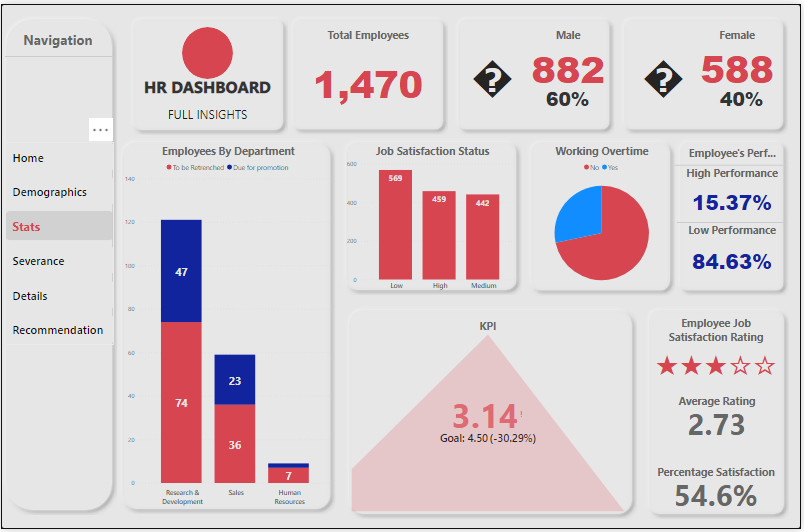

What the dashboard file says about the page in this screenshot:
{"tool":"powerbi","page":{"name":"Stats","canvas":[1600,1050],"ordinal":2},"visuals":[{"type":"shape","box":[253.3,20,320,241.7],"z":0},{"type":"shape","box":[573.9,20,320,241.1],"z":1000},{"type":"shape","box":[903.7,20,323.2,241.1],"z":2000},{"type":"shape","box":[1236.1,20,337.8,241.1],"z":3000},{"type":"textbox","box":[260,138,306,78],"z":4000},{"type":"textbox","box":[260,198,306,78],"z":5000},{"type":"shape","box":[362,46,102,104],"z":6000},{"type":"card","title":"Total Employees","fields":{"Values":["All Measures.Total Emp"]},"box":[584,46,300,192],"z":7000},{"type":"card","title":"Male","fields":{"Values":["All Measures.Males"]},"box":[1054.3,45.7,160,131.4],"z":8000},{"type":"card","title":"Male","fields":{"Values":["All Measures.% Males"]},"box":[1064,146,138,86],"z":9000},{"type":"card","title":"Female","fields":{"Values":["All Measures.Females"]},"box":[1382,46,180,132],"z":10000},{"type":"card","title":"Male","fields":{"Values":["All Measures.% Females"]},"box":[1412,146,138,86],"z":11000},{"type":"shape","title":"🙎♀️","box":[1286,84,96,106],"z":12000},{"type":"shape","title":"🙎♂️","box":[944,84,96,106],"z":13000},{"type":"shape","box":[679.4,265.7,360.6,316.5],"z":14000},{"type":"shape","box":[1050,265,298.3,316.7],"z":15000},{"type":"shape","box":[1348.3,265,226.7,316.7],"z":16000},{"type":"shape","box":[231.4,265.7,437.1,754.3],"z":17000},{"type":"columnChart","title":"Employees By Department","fields":{"Category":["HR Analytics Data.Department"],"Y":["All Measures.To be Retrenched","All Measures.Due for promotion"]},"box":[242.9,277.1,425.7,732.9],"z":18000},{"type":"columnChart","title":"Job Satisfaction Status","fields":{"Category":["HR Analytics Data.Job Satisfaction Status"],"Y":["All Measures.Total Emp"]},"box":[686,278,354,304],"z":19000},{"type":"pieChart","title":"Working Overtime","fields":{"Category":["HR Analytics Data.OverTime"],"Y":["All Measures.Total Emp"]},"box":[1023.3,278.3,355,303.3],"z":20000},{"type":"shape","box":[686,602,586,428],"z":21000},{"type":"kpi","title":"KPI ","fields":{"TrendLine":["HR Analytics Data.Department"],"Indicator":["Avg(HR Analytics Data.PerformanceRating)"],"Goal":["Sum(Performance Rating Goal.Performance Goal)"]},"box":[696,628,556,392],"z":22000},{"type":"shape","box":[1286,602,290,428],"z":23000},{"type":"textbox","box":[1355,278.3,213.3,41.7],"z":24000},{"type":"card","title":"Low Performance","fields":{"Values":["All Measures.% Low"]},"box":[1362.2,435.4,200,128.9],"z":25000},{"type":"card","title":"High Performance","fields":{"Values":["All Measures.% High"]},"box":[1362.2,322.2,200,120],"z":26000},{"type":"shape","box":[0,20,232,1002],"z":27000},{"type":"textbox","box":[22,48,184,50],"z":28000},{"type":"shape","box":[8,98,218,14],"z":29000},{"type":"pageNavigator","title":"Page navigator","box":[8,276,218,406],"z":30000},{"type":"shape","box":[1348.9,313.3,220,16.7],"z":31000},{"type":"shape","box":[1352.2,432.1,220,10],"z":32000},{"type":"card","title":"Employee Job Satisfaction Rating","fields":{"Values":["All Measures.Average of JobSatisfaction star rating"]},"box":[1298,622,264,132],"z":33000},{"type":"card","title":"Average Rating","fields":{"Values":["Avg(HR Analytics Data.JobSatisfaction)"]},"box":[1300,778,264,90],"z":34000},{"type":"card","title":"Percentage Satisfaction","fields":{"Values":["All Measures.% Average Sat. Rating"]},"box":[1298,920,264,90],"z":35000}]}

Visuals, with their boxes in screenshot pixels (x1, y1, x2, y2), scaled from the page's 1600x1050 canvas onto the 804x532 screenshot:
shape: locate(127, 10, 288, 133)
shape: locate(288, 10, 449, 132)
shape: locate(454, 10, 617, 132)
shape: locate(621, 10, 791, 132)
textbox: locate(131, 70, 284, 109)
textbox: locate(131, 100, 284, 140)
shape: locate(182, 23, 233, 76)
"Total Employees" card: locate(293, 23, 444, 121)
"Male" card: locate(530, 23, 610, 90)
"Male" card: locate(535, 74, 604, 118)
"Female" card: locate(694, 23, 785, 90)
"Male" card: locate(710, 74, 779, 118)
"🙎♀️" shape: locate(646, 43, 694, 96)
"🙎♂️" shape: locate(474, 43, 523, 96)
shape: locate(341, 135, 523, 295)
shape: locate(528, 134, 678, 295)
shape: locate(678, 134, 791, 295)
shape: locate(116, 135, 336, 517)
"Employees By Department" columnChart: locate(122, 140, 336, 512)
"Job Satisfaction Status" columnChart: locate(345, 141, 523, 295)
"Working Overtime" pieChart: locate(514, 141, 693, 295)
shape: locate(345, 305, 639, 522)
"KPI " kpi: locate(350, 318, 629, 517)
shape: locate(646, 305, 792, 522)
textbox: locate(681, 141, 788, 162)
"Low Performance" card: locate(685, 221, 785, 286)
"High Performance" card: locate(685, 163, 785, 224)
shape: locate(0, 10, 117, 518)
textbox: locate(11, 24, 104, 50)
shape: locate(4, 50, 114, 57)
"Page navigator" pageNavigator: locate(4, 140, 114, 346)
shape: locate(678, 159, 788, 167)
shape: locate(679, 219, 790, 224)
"Employee Job Satisfaction Rating" card: locate(652, 315, 785, 382)
"Average Rating" card: locate(653, 394, 786, 440)
"Percentage Satisfaction" card: locate(652, 466, 785, 512)
